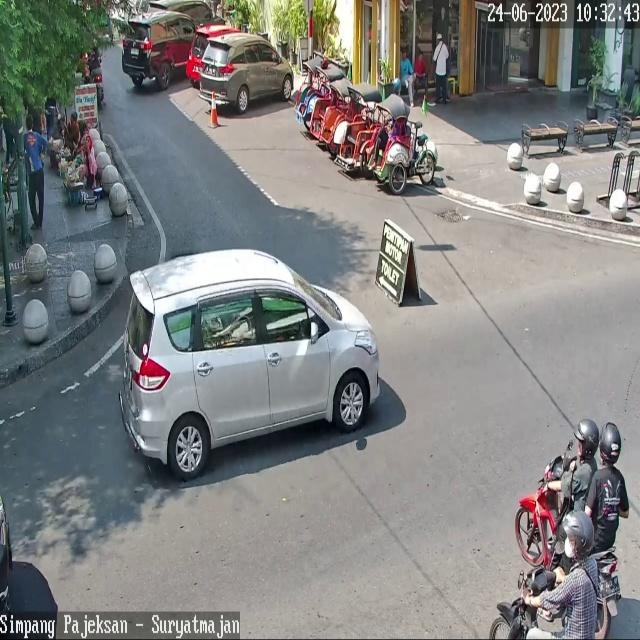bus: (514, 453, 621, 640), (491, 565, 556, 640), (94, 74, 105, 109)
motorcycle: (121, 248, 379, 481), (199, 34, 295, 112), (122, 12, 202, 90), (186, 24, 243, 80), (144, 0, 225, 25)
